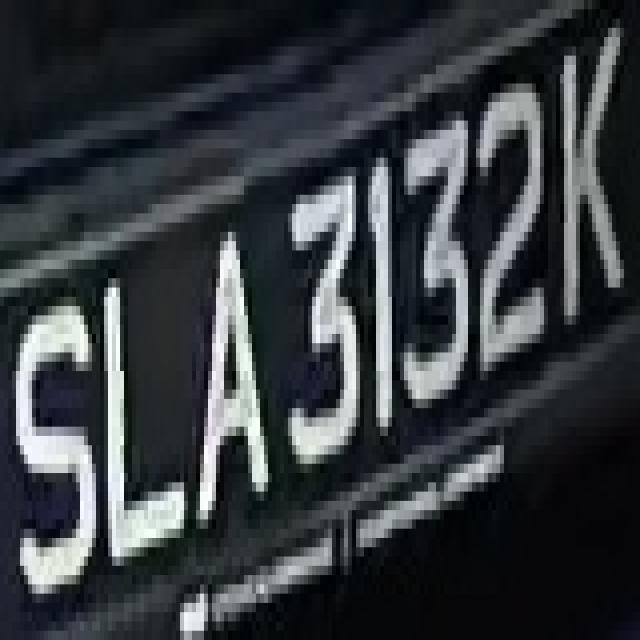1: (352, 74, 404, 473)
2: (460, 65, 552, 399)
3: (276, 158, 360, 473), (396, 102, 472, 427)
A: (176, 204, 272, 538)
K: (552, 9, 632, 343)
L: (92, 241, 192, 566)
S: (4, 260, 100, 630)
